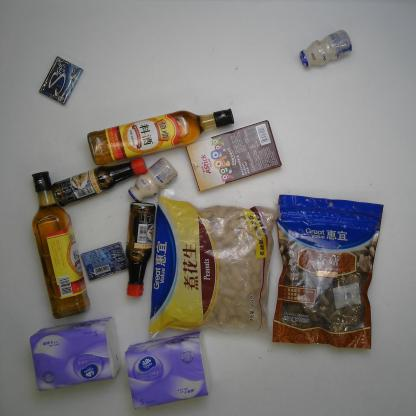Dessert: (185, 119, 284, 192)
Dried Food: (147, 189, 281, 338), (271, 194, 385, 350)
Gum: (38, 55, 84, 105), (79, 242, 129, 282)
Milk: (128, 156, 178, 203), (298, 28, 353, 69)
Seasoner: (30, 170, 92, 320), (86, 108, 235, 166), (50, 156, 148, 208), (124, 201, 157, 298)
Tissue: (28, 316, 123, 392), (124, 331, 210, 410)
